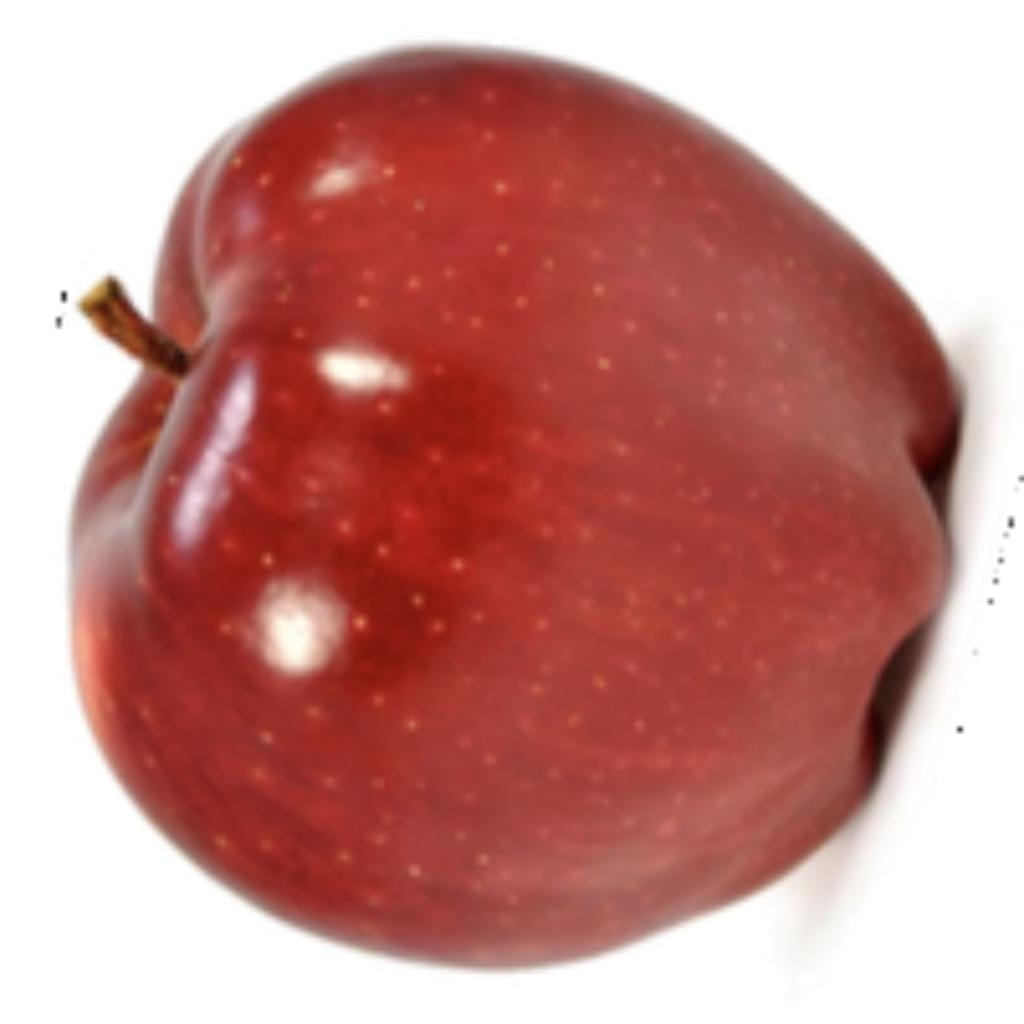apple: (51, 31, 1004, 978)
